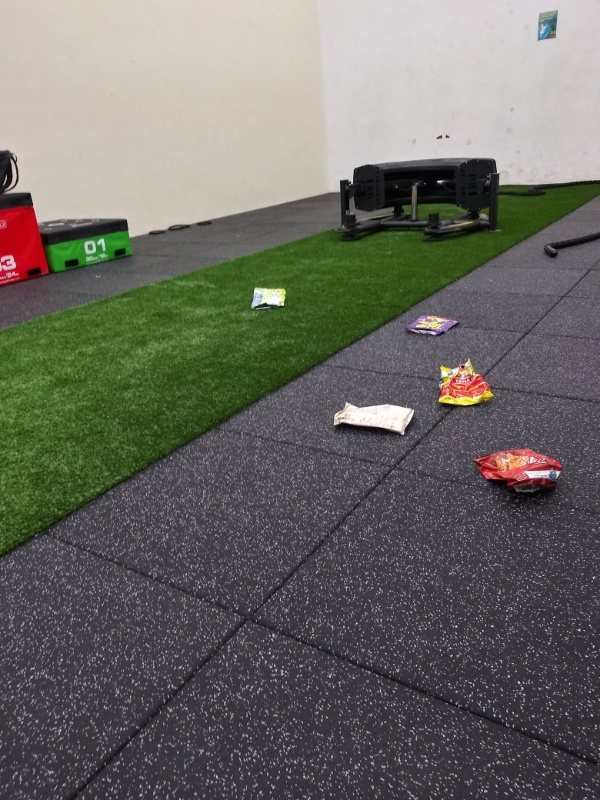bag: (469, 441, 572, 499), (326, 396, 418, 439), (434, 360, 497, 406), (398, 308, 467, 340), (248, 281, 288, 314)
